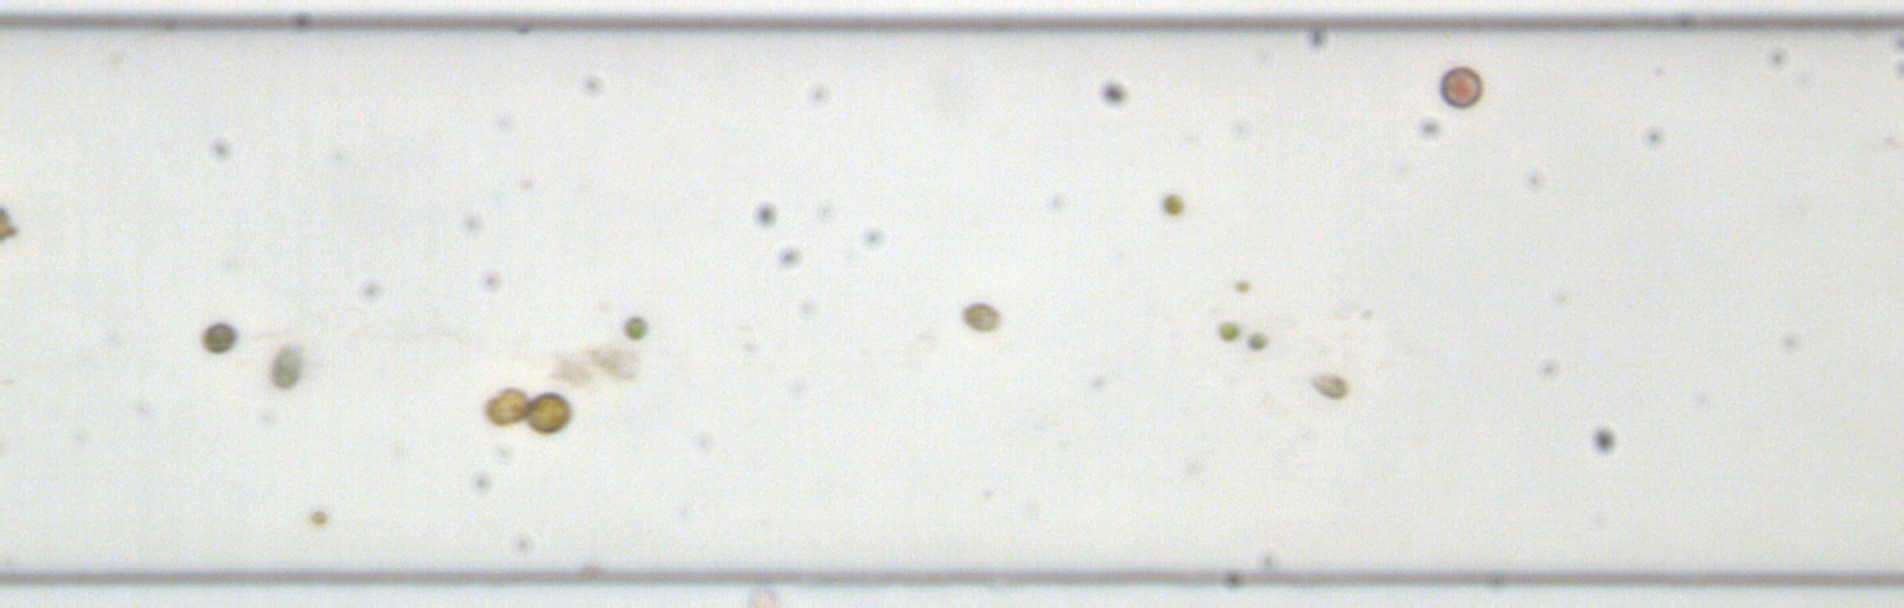Chlorella: (199, 320, 236, 352), (1158, 191, 1184, 218), (622, 316, 647, 340), (1215, 319, 1241, 341), (1246, 331, 1268, 350), (1232, 275, 1249, 292), (307, 508, 325, 524)
Dunaliella salina: (268, 345, 304, 390), (1305, 370, 1348, 402), (960, 301, 1001, 333)
Effrenium: (522, 391, 573, 437), (481, 385, 529, 425)
Porphyridium: (1435, 64, 1485, 110)
